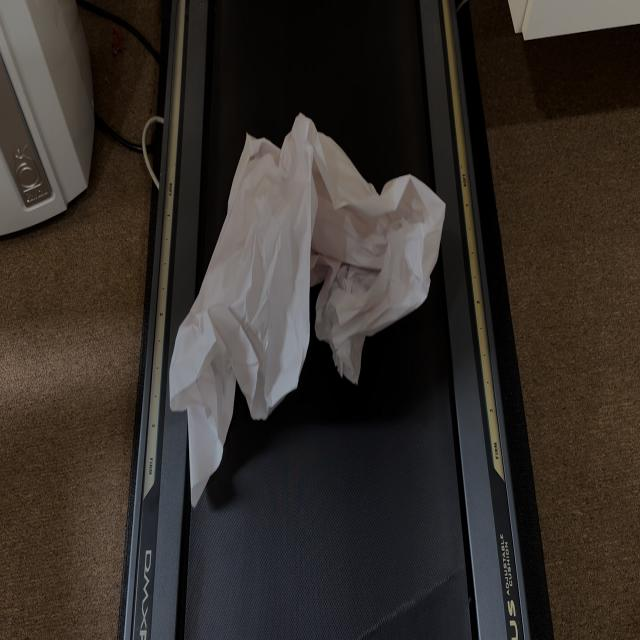Recycle: (167, 110, 446, 512)
